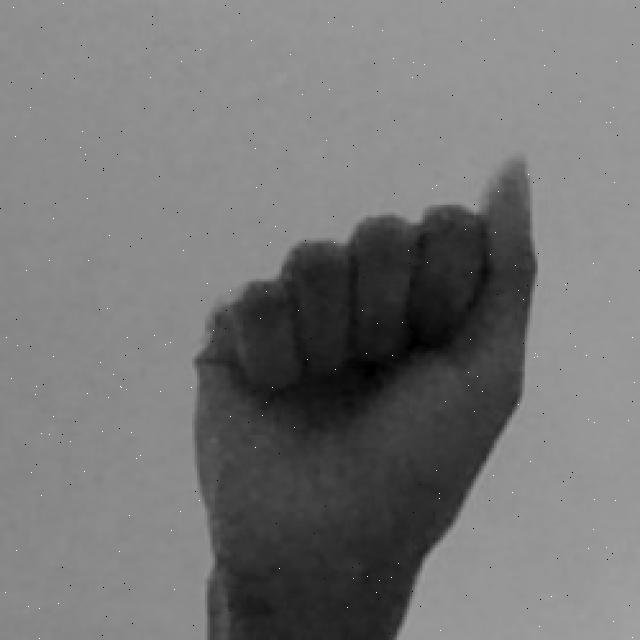A: (182, 148, 546, 640)
